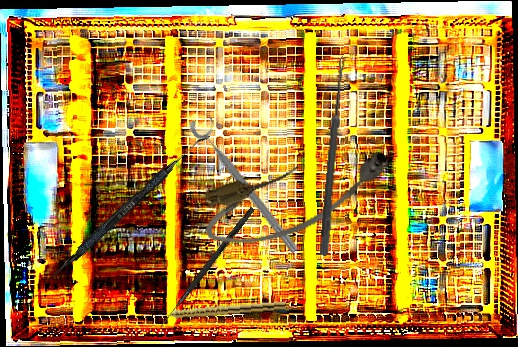Cannula: (195, 138, 402, 258)
Fixation Ring: (186, 109, 310, 257)
Handpiece: (158, 298, 287, 321)
Hook Surgical: (159, 205, 255, 330)
Spatula Surgical: (41, 127, 211, 291)
Surgical Spoon: (319, 55, 347, 257)
